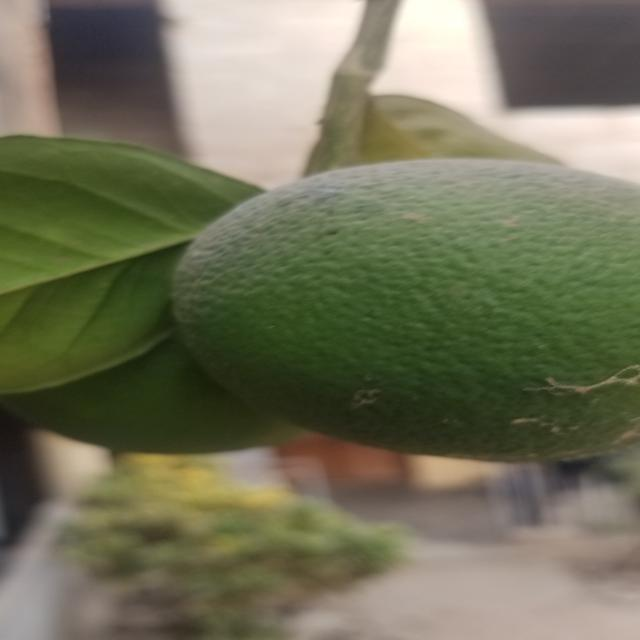Unripe: (173, 154, 624, 463)
